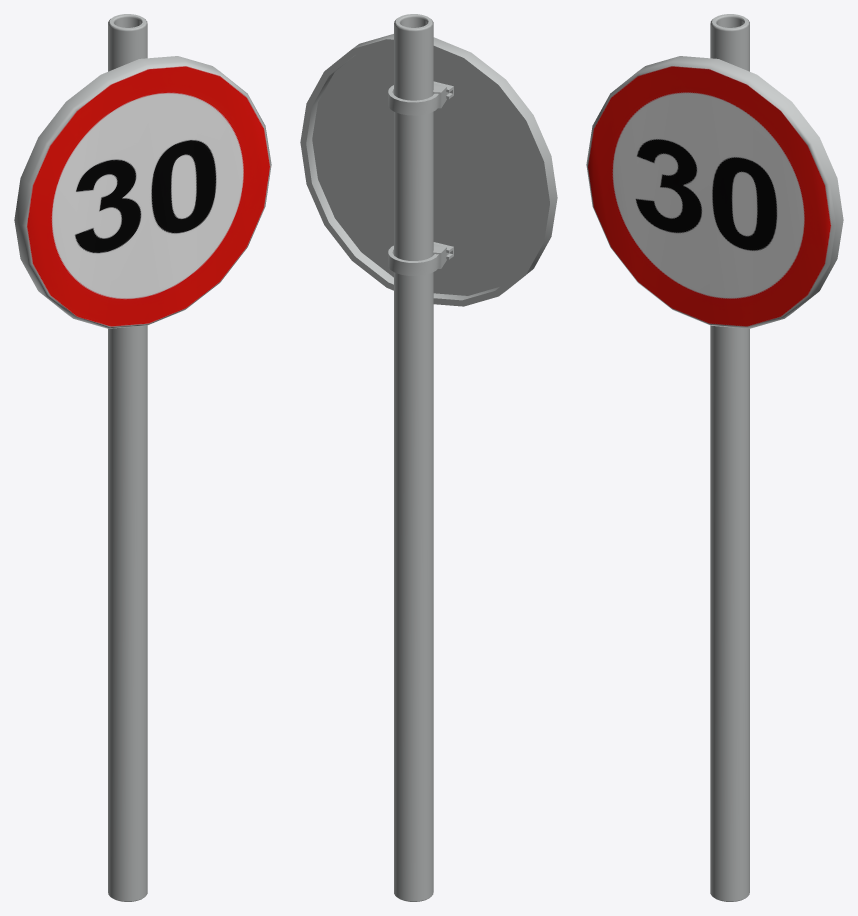
File: SM_SpeedSign30.fbx
3 views of the same model, side by side, from view 1: azimuth 30°, elevation 25°; view 2: azimuth 150°, elevation 25°; view 3: azimuth 330°, elevation 25° (orthographic).
Parts seen in each view (by area): view 1: yuvarlak_azami30_0; view 2: yuvarlak_azami30_0; view 3: yuvarlak_azami30_0.
Part boxes in pixels (bbox=[...]): yuvarlak_azami30_0: bbox=[14, 14, 271, 901]; yuvarlak_azami30_0: bbox=[300, 14, 557, 901]; yuvarlak_azami30_0: bbox=[586, 14, 843, 901].
Size of the model in its own units: 131 by 436 by 30.47.
Materials: 1 (1 with a texture image).
